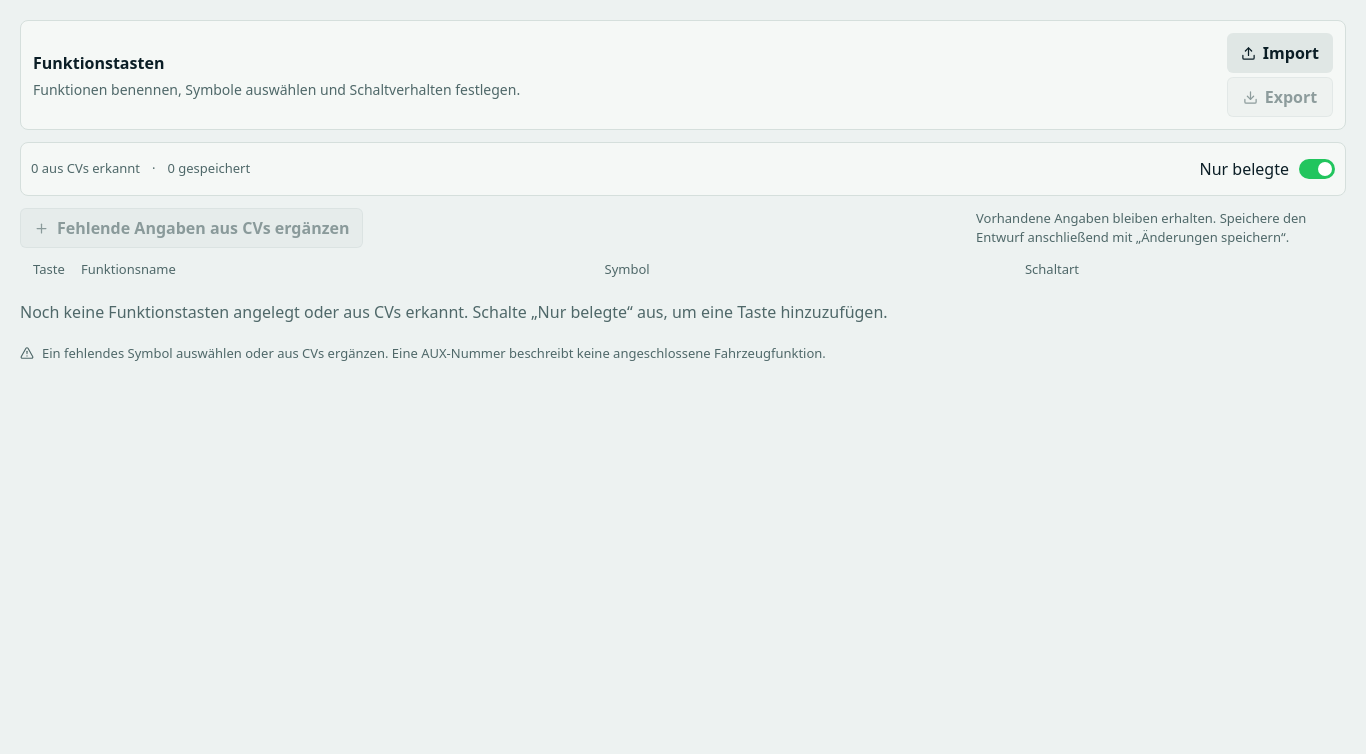
Scenario: adds the untouched F0 default explicitly without saving when no CV mapping exists
Click the checkbox labelled "Nur belegte". click: (1267, 169)
box: [1200,153,1335,185]
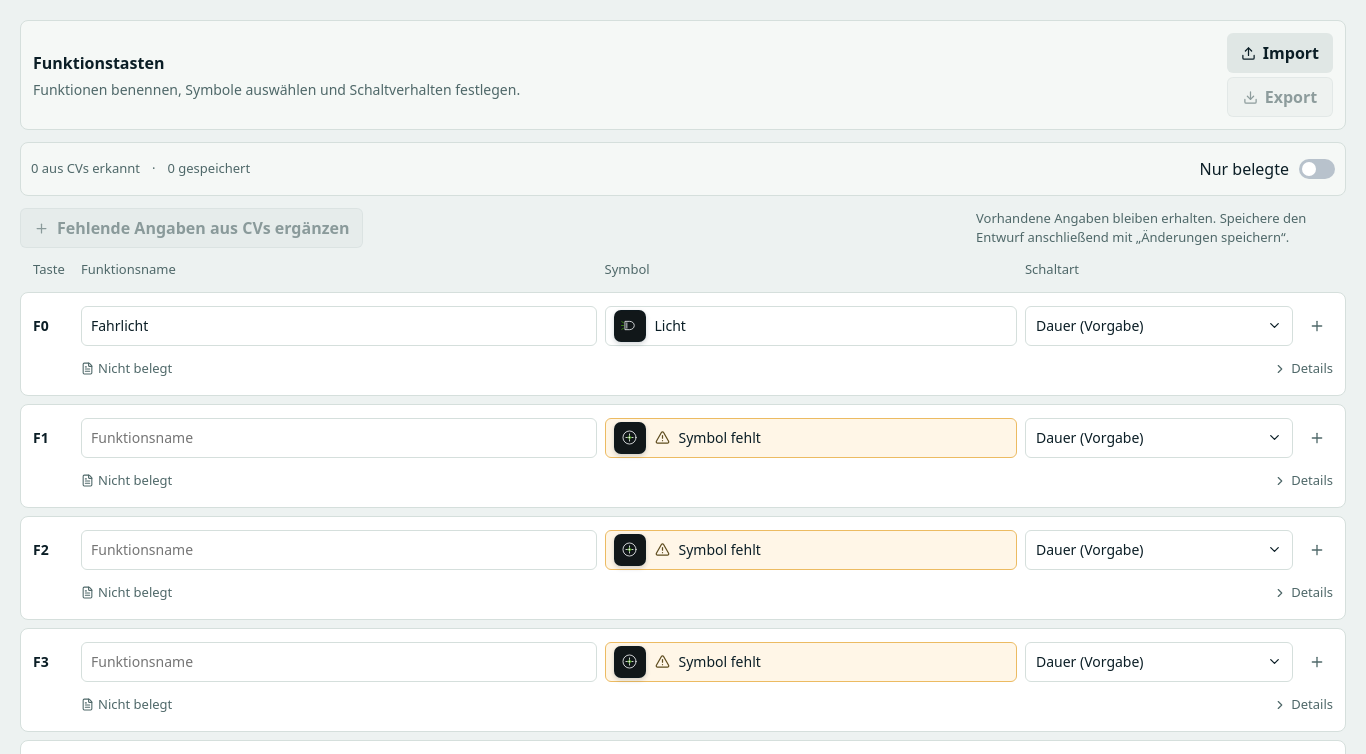
Click the button named "F0 hinzufügen". click: (1317, 326)
box: [1301,306,1333,344]
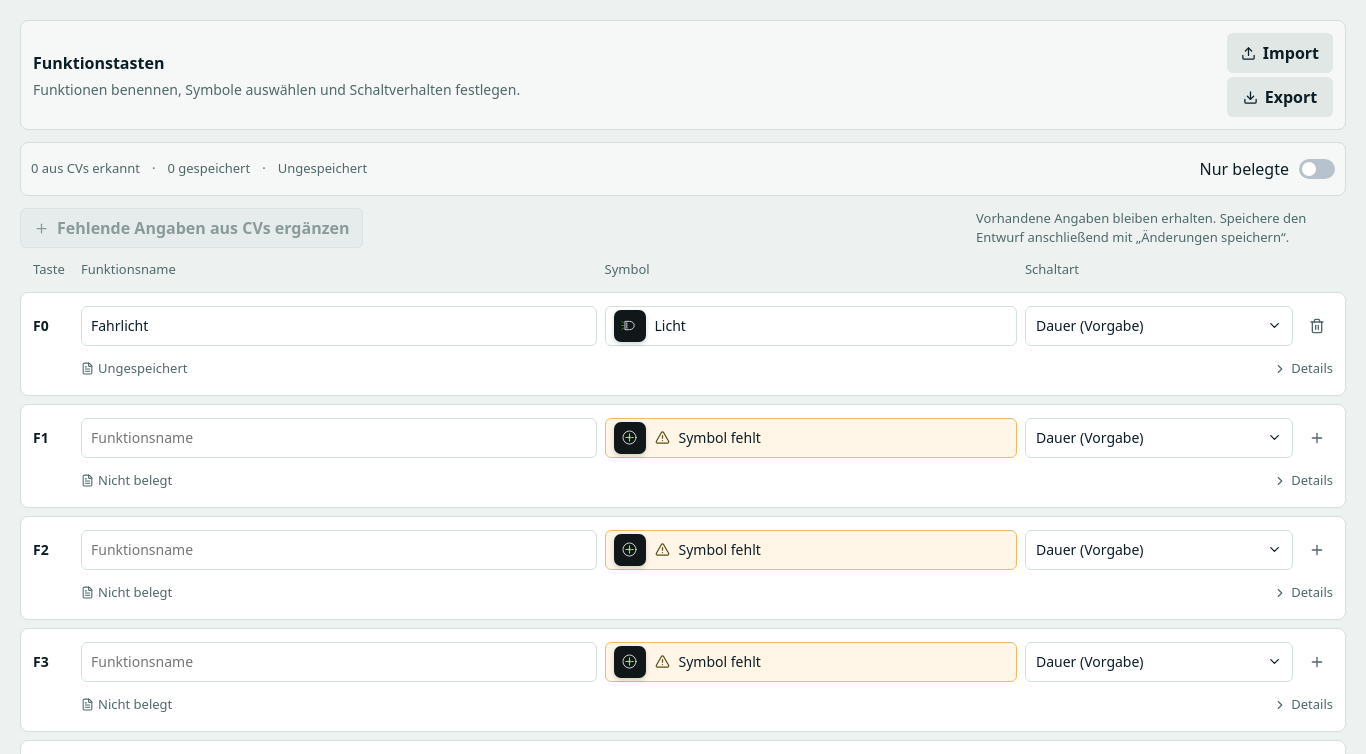
Click the checkbox labelled "Nur belegte". click: (1267, 169)
box: [1200,153,1335,185]
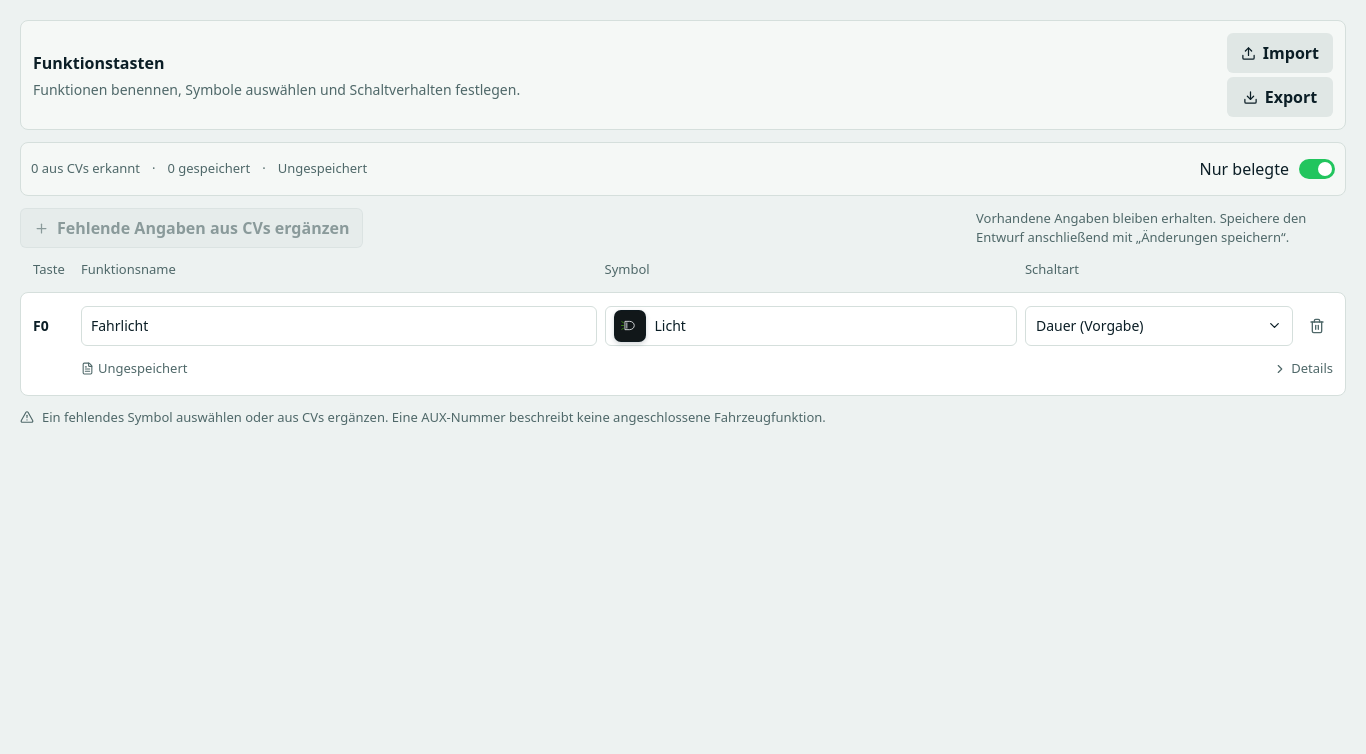
Now the number of elements with class "function-row" is 1, box [20,292,1346,396]
